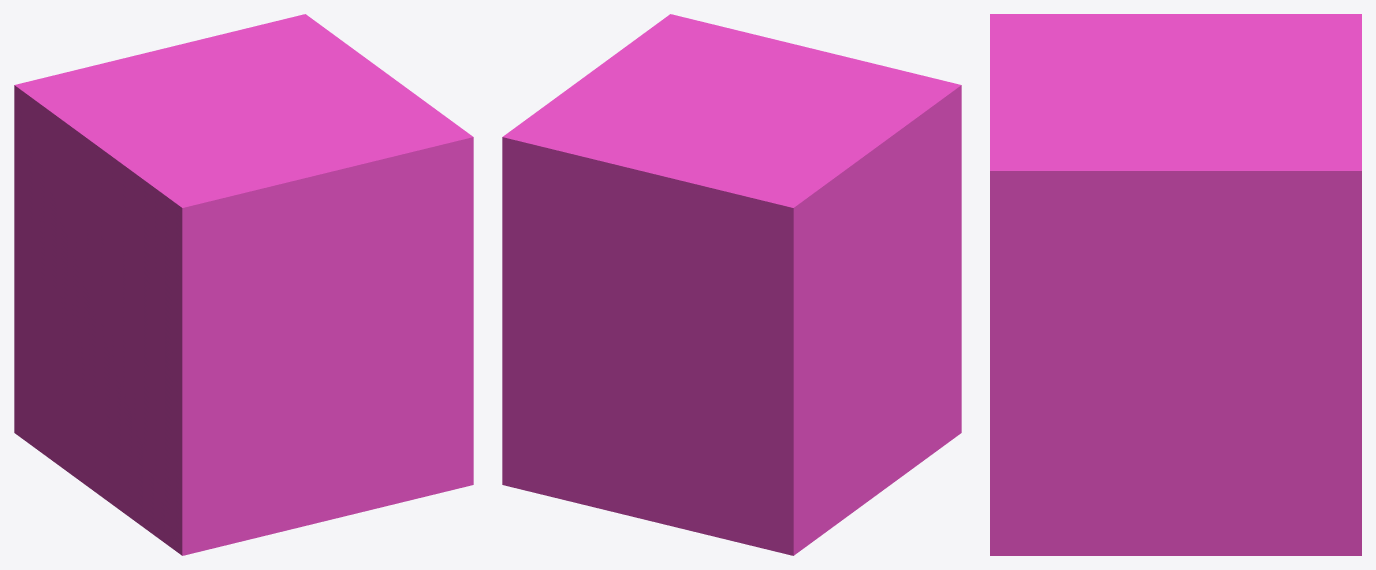
File: decoy_beacon_lvl05.glb
3 renders of one model, left to right at view 1: azimuth 30°, elevation 25°; view 2: azimuth 150°, elevation 25°; view 3: azimuth 270°, elevation 25°, orthographic. The views are drawn at different scales.
Parts seen in each view (by area): view 1: COL_BOX_BODY; view 2: COL_BOX_BODY; view 3: COL_BOX_BODY.
Part boxes in pixels (x1,y1,x2,y2): COL_BOX_BODY: (14,14,473,555); COL_BOX_BODY: (502,14,961,555); COL_BOX_BODY: (990,14,1361,555).
Bounding box in the file's own units: 1.34 × 1.53 × 1.34.
